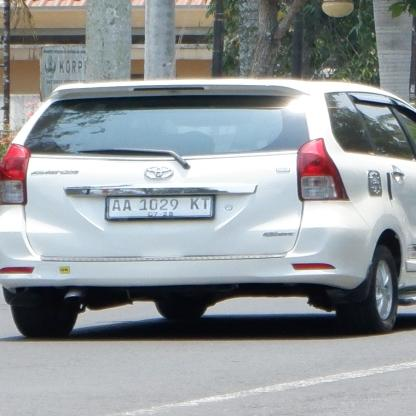Plat-Nomor: (104, 194, 213, 220)
